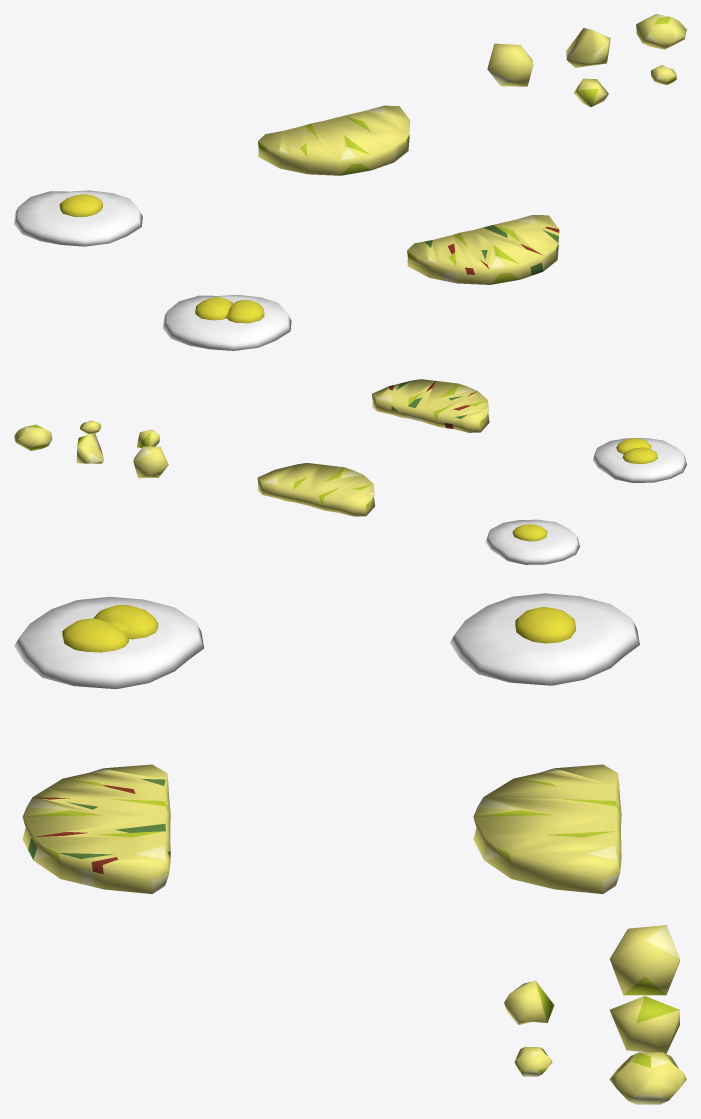
Rendered from CookedEggs.fbx.
3 renders of one model, top to bottom at view 1: azimuth 30°, elevation 25°; view 2: azimuth 150°, elevation 25°; view 3: azimuth 270°, elevation 25°, orthographic. The views are drawn at different scales.
Visible parts, largest first — view 1: Omellete, OmelleteVeggie, FriedEgg, FriedEggDouble, ScrambledEggs1, ScrambledEggs3, ScrambledEggs2, ScrambledEggs4; view 2: OmelleteVeggie, Omellete, FriedEgg, FriedEggDouble, ScrambledEggs1, ScrambledEggs3, ScrambledEggs2, ScrambledEggs4; view 3: OmelleteVeggie, Omellete, FriedEgg, FriedEggDouble, ScrambledEggs1, ScrambledEggs2, ScrambledEggs3, ScrambledEggs4, ScrambledEggs5.
Part boxes in pixels (box(x1,y1,x2,y2)): Omellete: box(258, 105, 410, 175); OmelleteVeggie: box(407, 215, 559, 284); FriedEgg: box(14, 190, 142, 246); FriedEggDouble: box(163, 294, 291, 350); ScrambledEggs1: box(487, 43, 533, 86); ScrambledEggs3: box(636, 14, 686, 49); ScrambledEggs2: box(566, 28, 610, 67); ScrambledEggs4: box(574, 78, 608, 106); OmelleteVeggie: box(372, 379, 489, 432); Omellete: box(257, 463, 375, 516); FriedEgg: box(485, 519, 579, 564); FriedEggDouble: box(592, 438, 686, 482); ScrambledEggs1: box(133, 446, 168, 478); ScrambledEggs3: box(14, 424, 52, 450); ScrambledEggs2: box(76, 433, 104, 463); ScrambledEggs4: box(137, 429, 160, 447); OmelleteVeggie: box(22, 764, 170, 893); Omellete: box(473, 764, 621, 893); FriedEgg: box(449, 593, 639, 685); FriedEggDouble: box(14, 596, 204, 689); ScrambledEggs1: box(610, 925, 679, 995); ScrambledEggs2: box(610, 996, 679, 1053); ScrambledEggs3: box(609, 1052, 686, 1104); ScrambledEggs4: box(504, 980, 554, 1024); ScrambledEggs5: box(514, 1047, 552, 1076).
Bounding box in the file's own units: 1.29 × 0.0661 × 0.7164.
